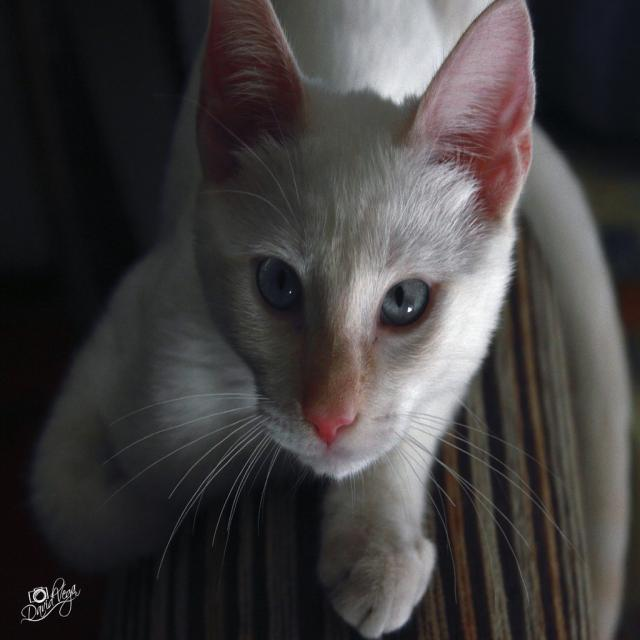Cat: (29, 0, 587, 639)
